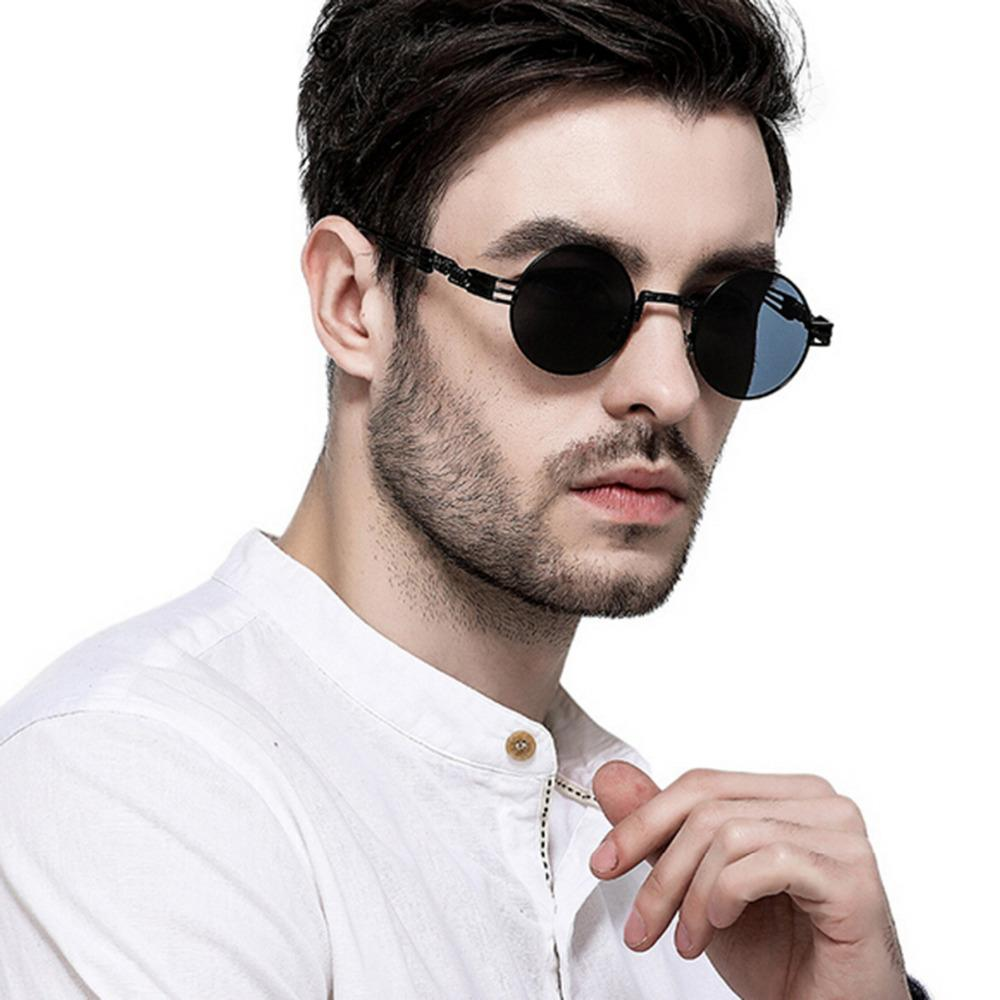sunglasses: (403, 224, 830, 409)
